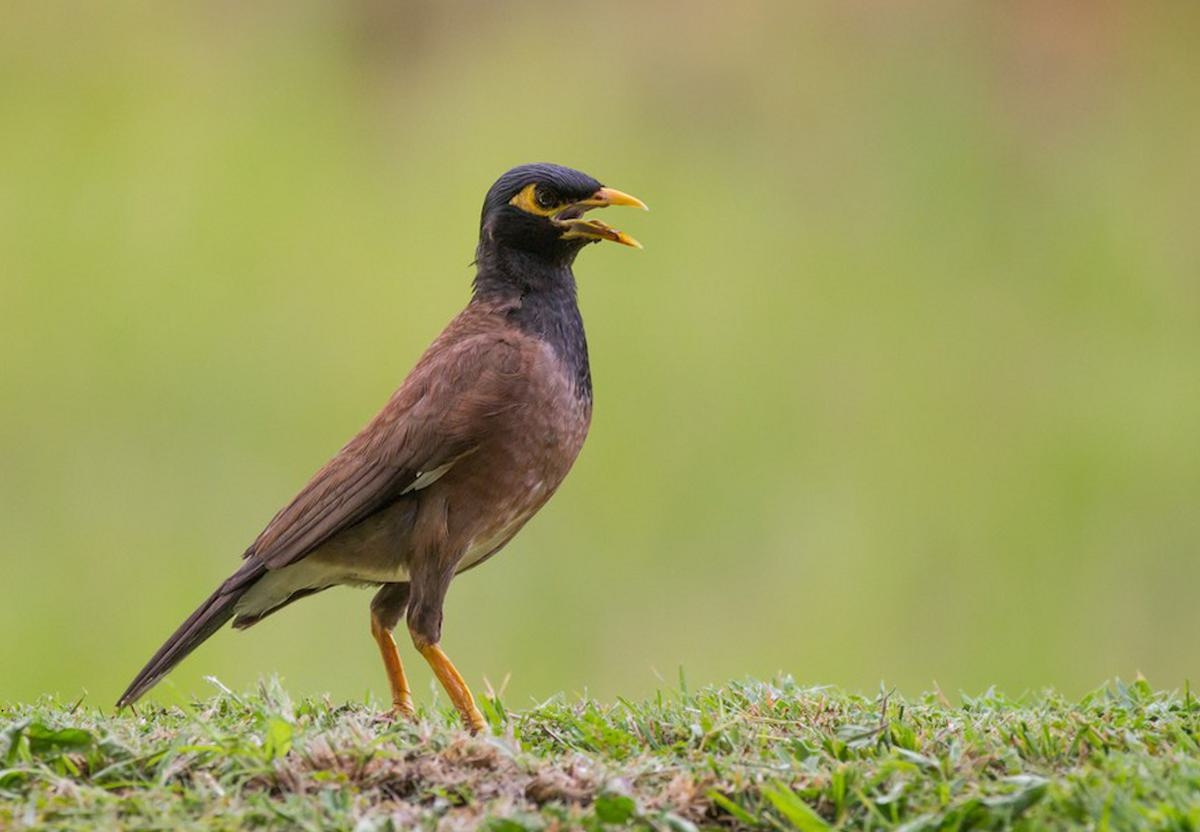myna: (175, 140, 691, 772)
